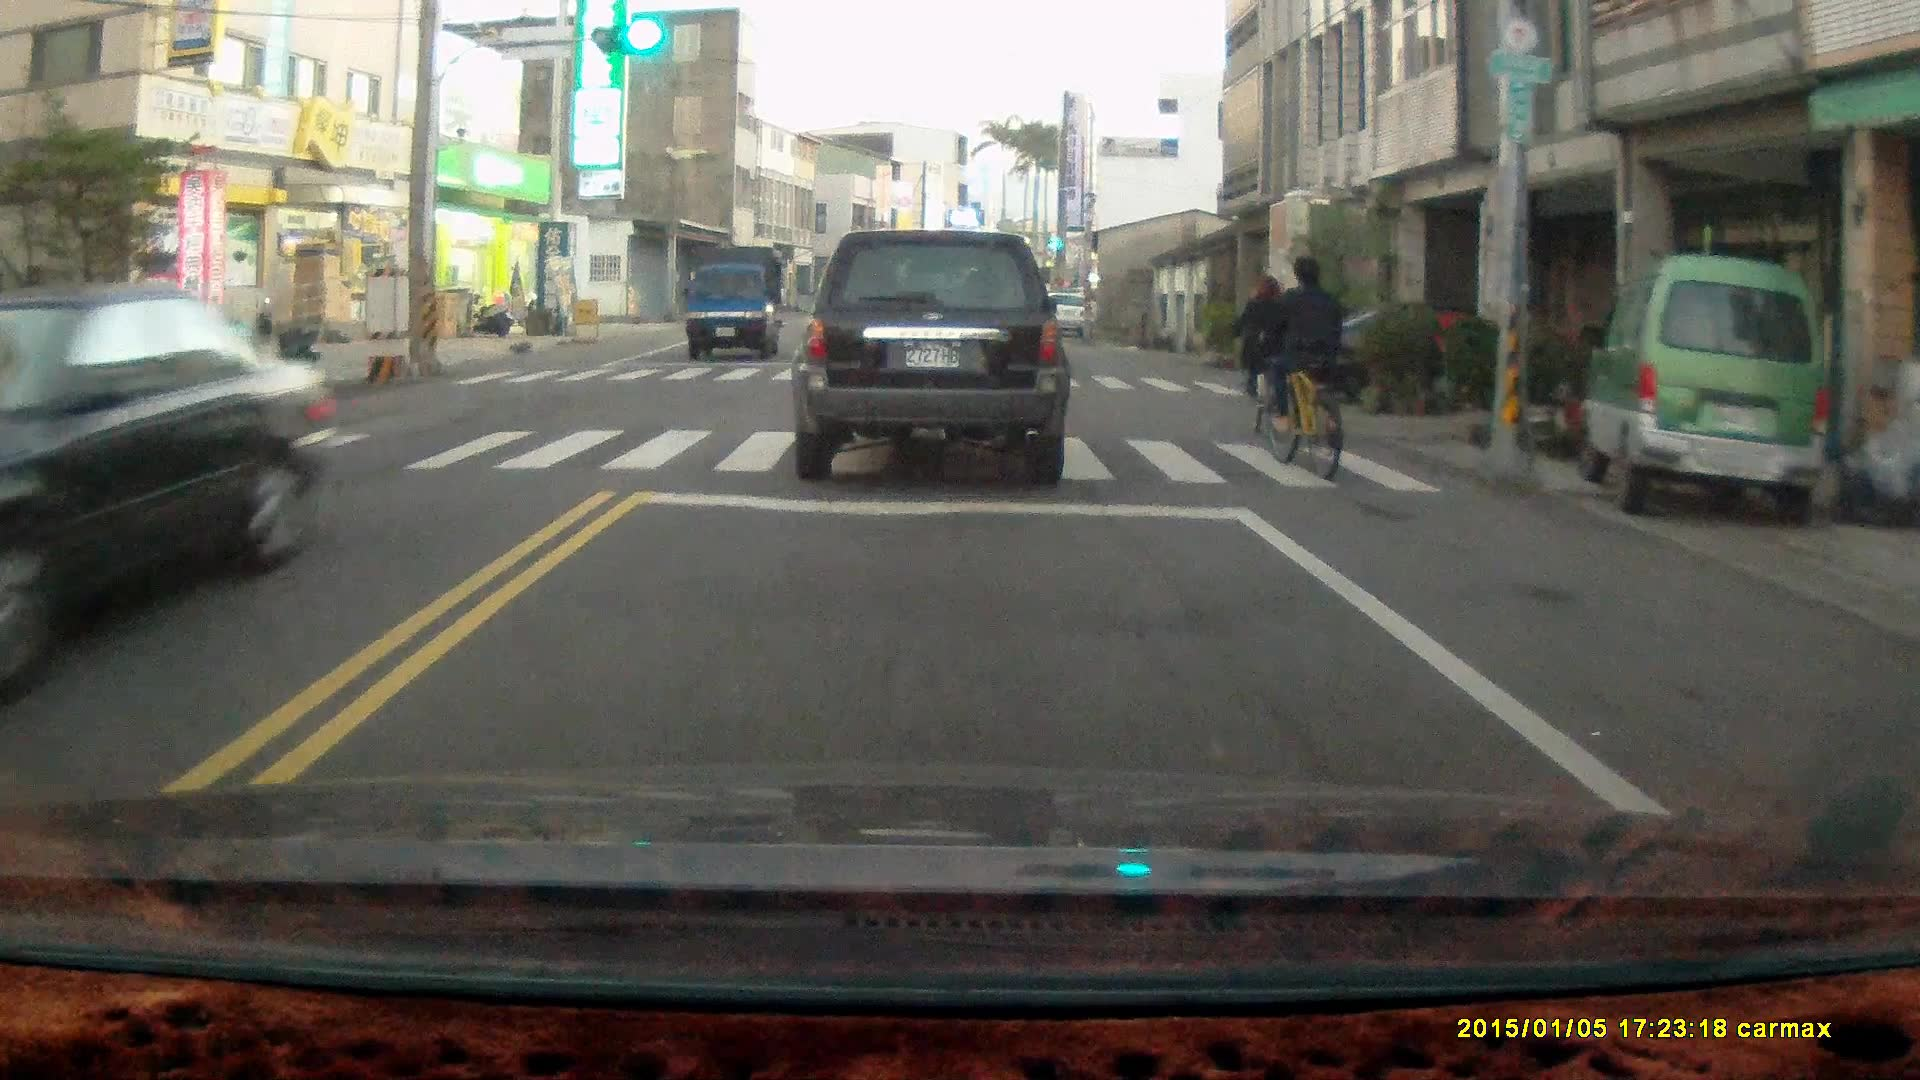rider: (1261, 252, 1351, 477), (1234, 274, 1295, 440)
vehicle: (3, 292, 317, 667), (794, 229, 1070, 486), (1596, 257, 1840, 533), (1313, 303, 1570, 418), (684, 251, 788, 362)
